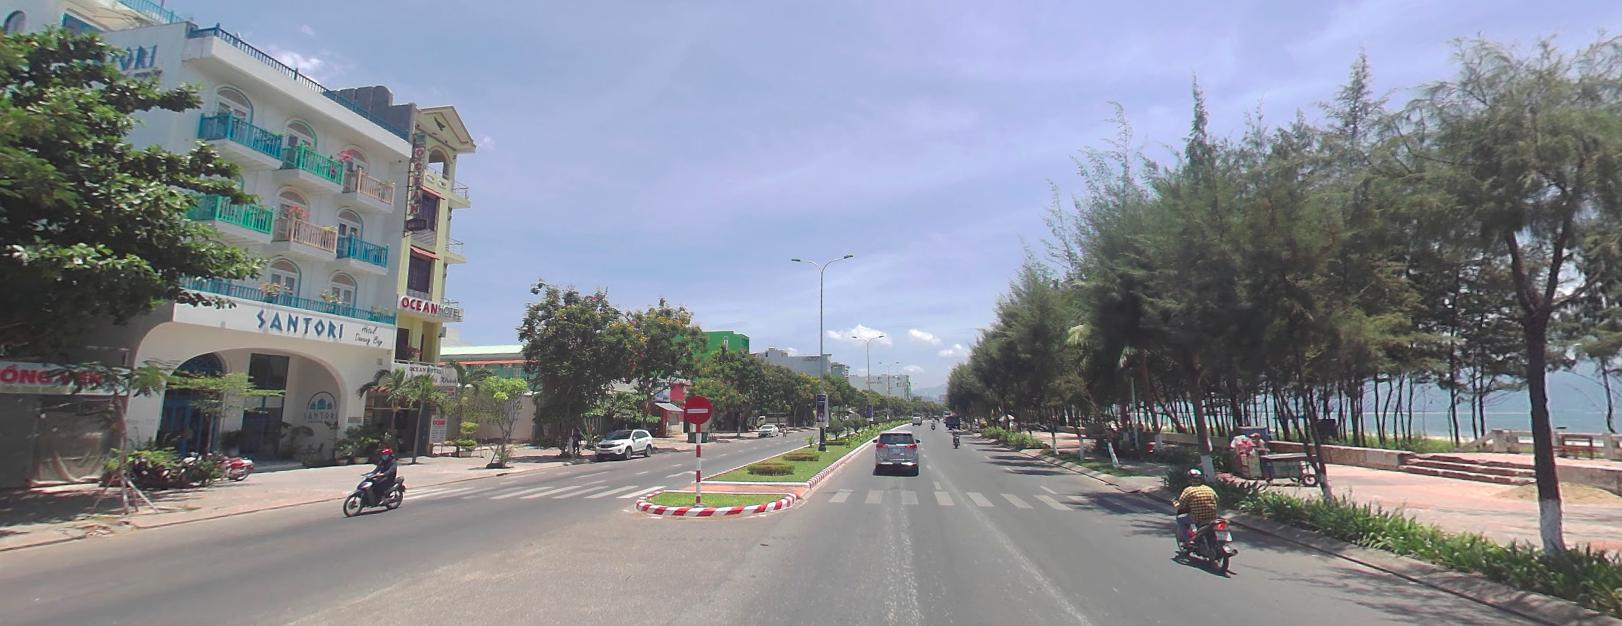Cam nguoc chieu: (682, 393, 710, 422)
